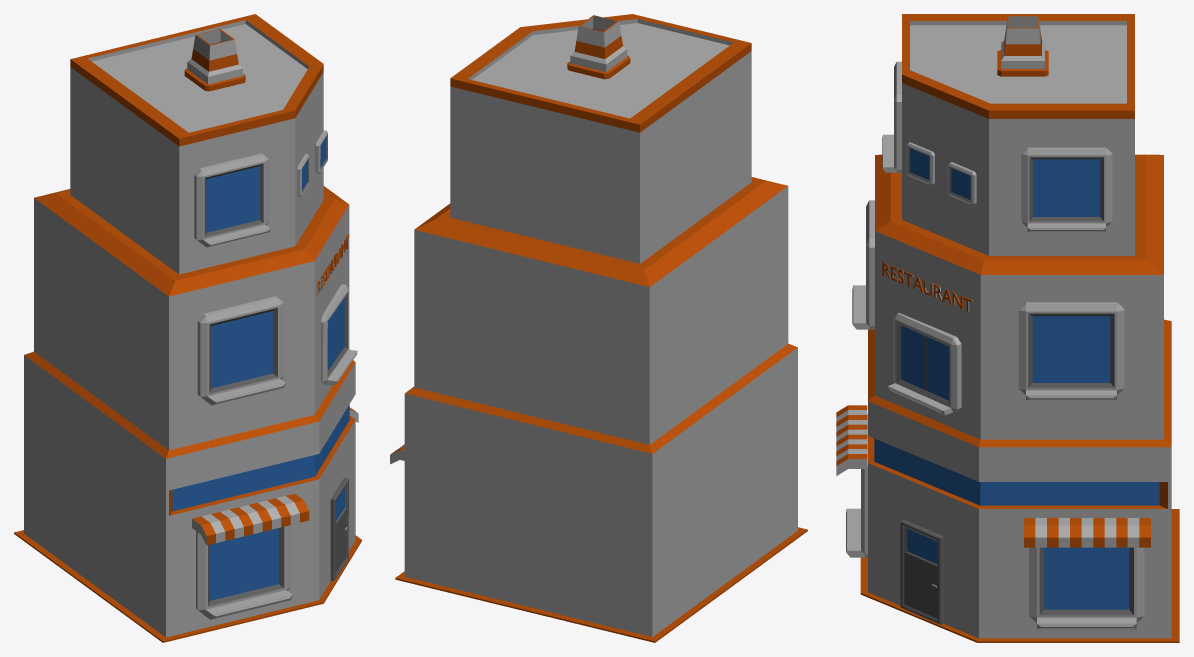
File: restaurant.glb
The picture shows the model from 3 angles, left to right: view 1: azimuth 30°, elevation 25°; view 2: azimuth 150°, elevation 25°; view 3: azimuth 270°, elevation 25°; orthographic projection. The views are drawn at different scales.
Parts seen in each view (by area): view 1: RESTAURANT_COLOR.001_0; view 2: RESTAURANT_COLOR.001_0; view 3: RESTAURANT_COLOR.001_0.
Part boxes in pixels (x1=…): RESTAURANT_COLOR.001_0: x1=14, y1=14, x2=361, y2=642; RESTAURANT_COLOR.001_0: x1=390, y1=14, x2=807, y2=642; RESTAURANT_COLOR.001_0: x1=836, y1=14, x2=1179, y2=642.
Size of the model in its own units: 3.07 by 5.6 by 3.14.
1 material, 1 textured.
